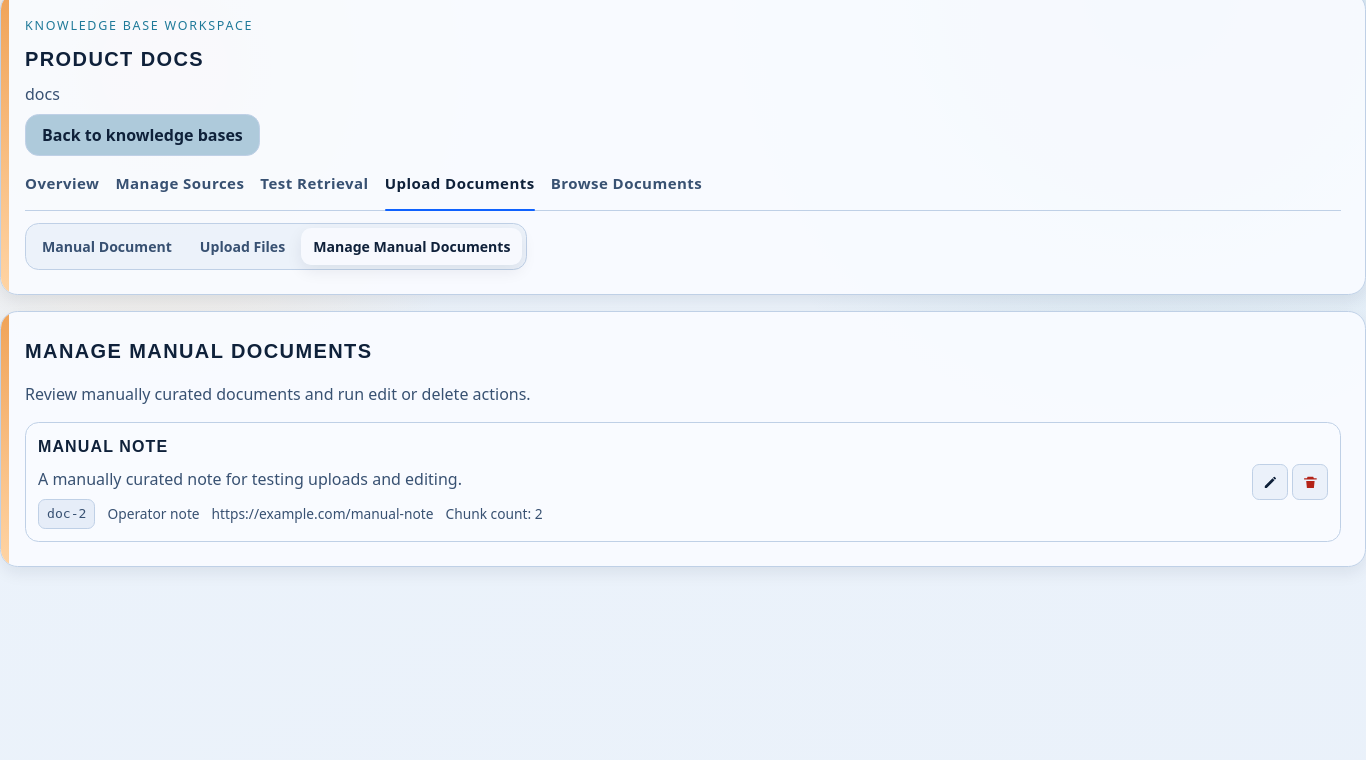
Test: ContextKnowledgeBaseWorkspace pages › lets superadmins edit manual documents from the upload manage view
Expected: the heading "Manage manual documents" is shown, [25, 340, 372, 362]
Expected: the heading "Manual Note" is shown, [38, 435, 168, 459]
Click the button named "Edit Manual Note": [1270, 482] box [1252, 464, 1288, 500]
(page scrolled)
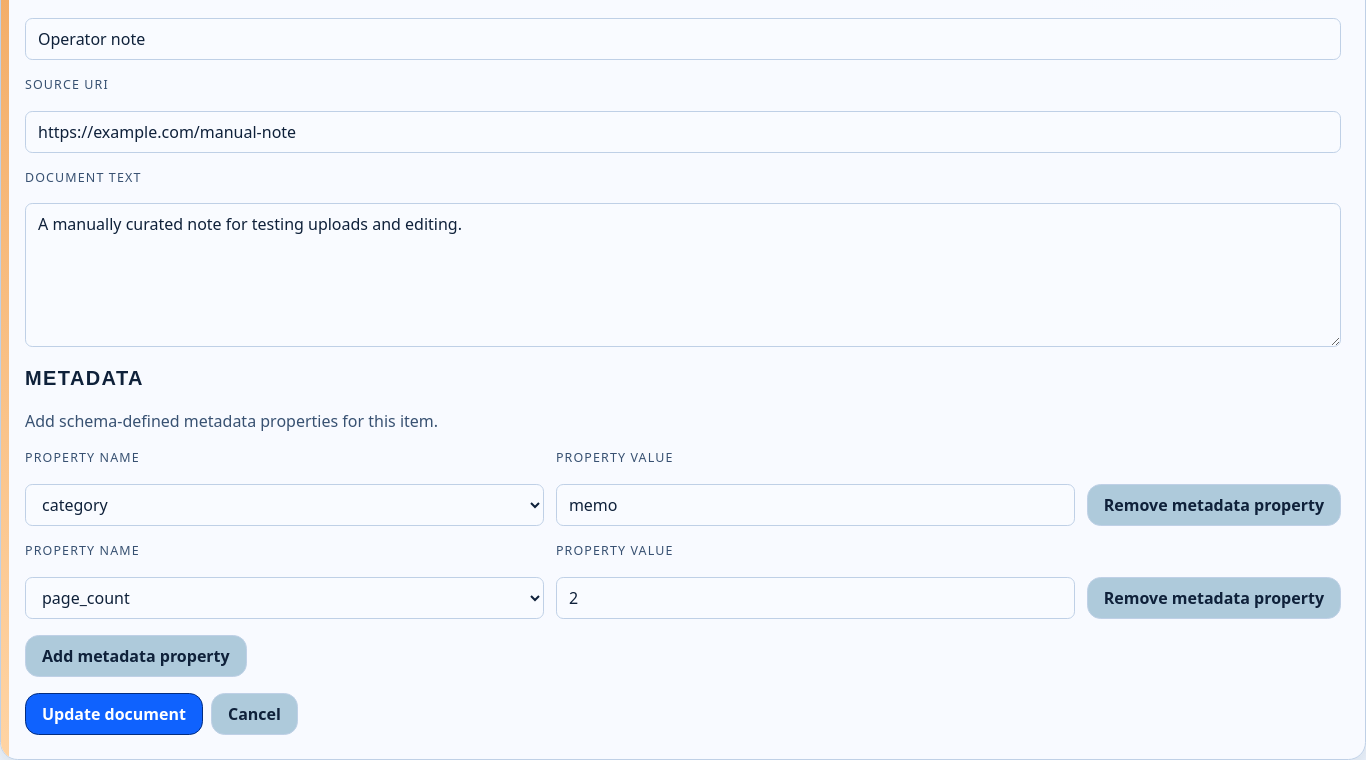
Expected: the field showing "Operator note" is shown, [25, 18, 1341, 60]
Expected: the 1st field showing "memo" is shown, [556, 484, 1075, 526]
Expected: the 2nd field showing "2" is shown, [556, 577, 1075, 619]
